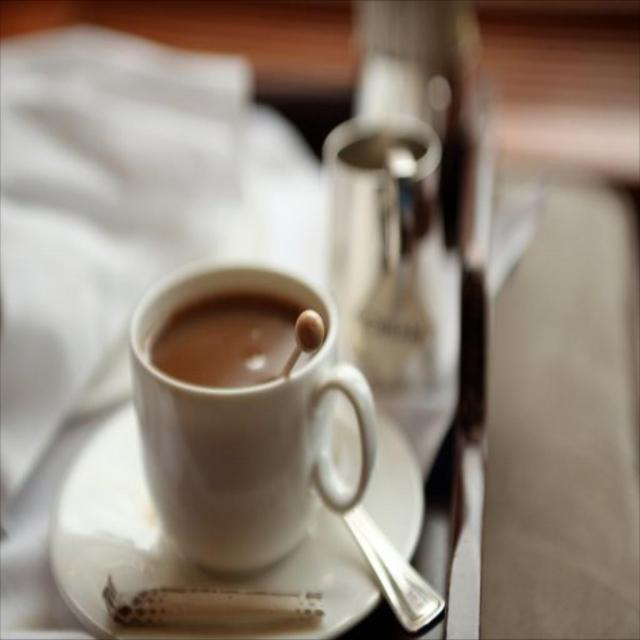Coffee: (131, 263, 382, 582)
Tea: (145, 295, 327, 390)
